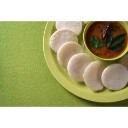idly: (57, 42, 85, 69), (68, 53, 94, 82), (102, 62, 127, 89), (84, 61, 105, 91), (50, 30, 77, 52)
